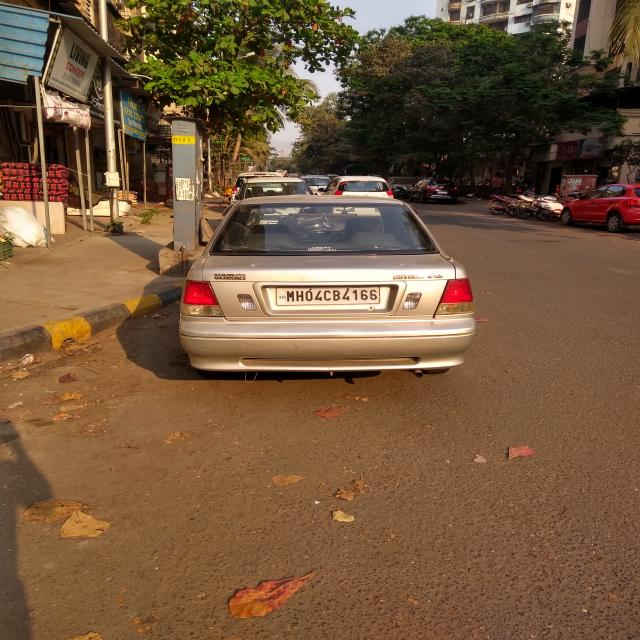Number-Plate: (278, 288, 384, 306)
